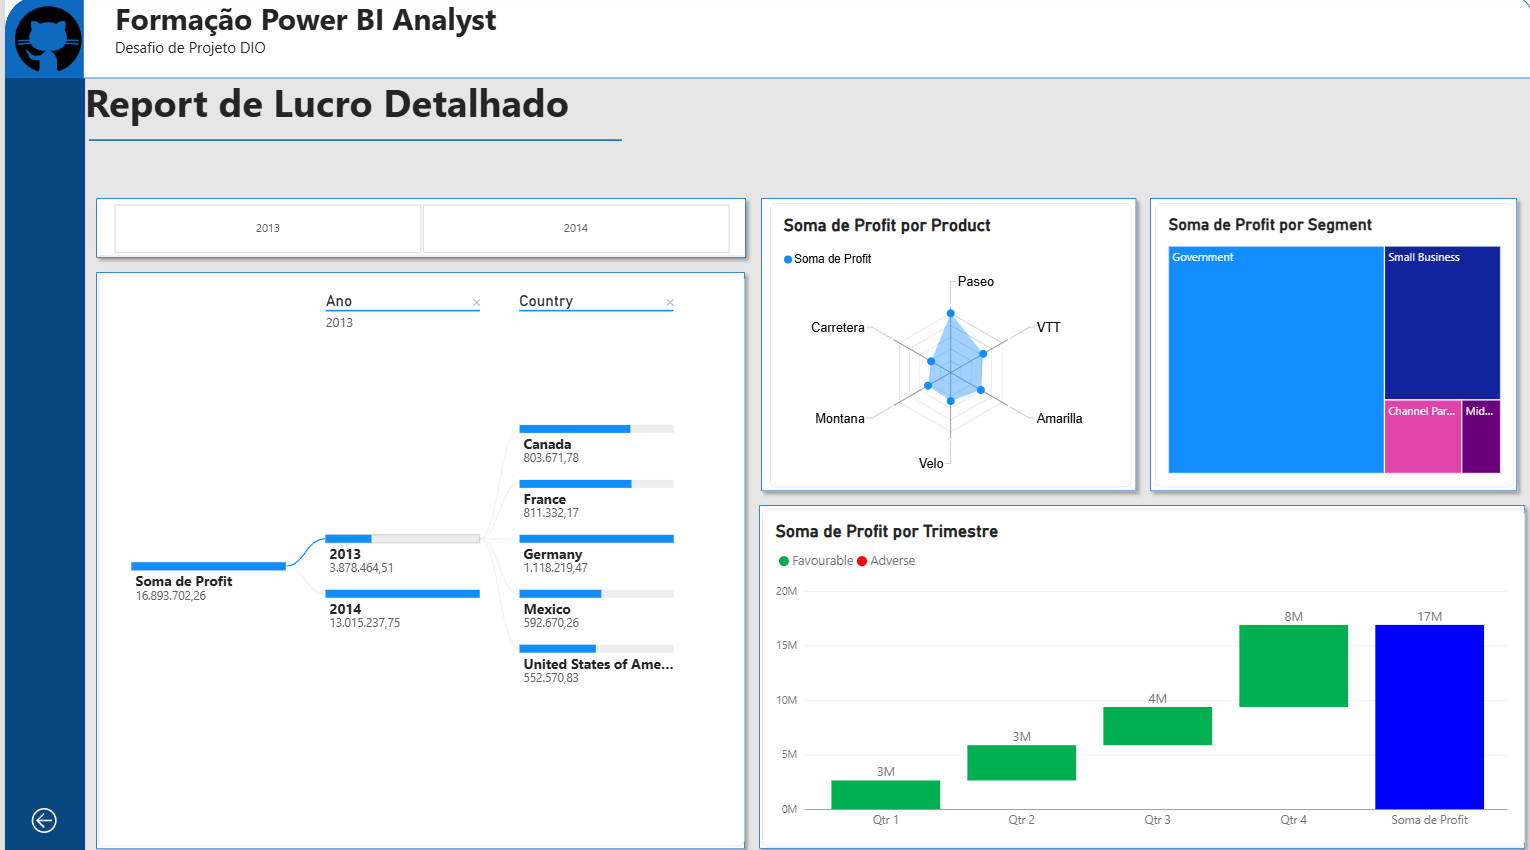

This screenshot's page, from the dashboard's own definition file:
{"tool":"powerbi","page":{"name":"Página 2","canvas":[1920,1080],"ordinal":1},"visuals":[{"type":"shape","title":"fundo","box":[0,0,1920,1080.3],"z":0},{"type":"shape","title":"barra lateral","box":[0,0,100.9,1077.7],"z":1000},{"type":"shape","title":"logo","box":[0,0,100.9,103.5],"z":2000},{"type":"image","box":[8.8,5.9,90.7,97.5],"z":3000},{"type":"shape","title":"barra superior","box":[98.3,0,1820.4,103.5],"z":4000},{"type":"textbox","box":[100.2,100.2,633.6,76.6],"z":5000},{"type":"textbox","box":[138.5,2.9,481.8,97.3],"z":6000},{"type":"shape","box":[106.1,98.7,669,163.6],"z":7000},{"type":"shape","box":[106.1,337.4,832.5,742.7],"z":8000},{"type":"shape","box":[938.6,630.7,979.9,449.4],"z":9000},{"type":"shape","box":[940.1,244.6,489.2,386.1],"z":10000},{"type":"shape","box":[1429.3,244.6,478.9,386.1],"z":11000},{"type":"shape","box":[106.1,244.6,834,92.8],"z":12000},{"type":"SimpleWaterfall","fields":{"measure":["Sum(financials.Profit)"],"category":["financials.Date.Variation.Hierarquia de datas.Trimestre"]},"box":[950.4,643.9,957.8,424.4],"z":13000},{"type":"RadarChart1446119667547","fields":{"Y":["Sum(financials.Profit)"],"Category":["financials.Product"]},"box":[960.7,259.3,453.8,356.6],"z":14000},{"type":"treemap","fields":{"Group":["financials.Segment"],"Values":["Sum(financials.Profit)"]},"box":[1444.1,259.3,450.9,356.6],"z":15000},{"type":"slicer","fields":{"Values":["financials.Date.Variation.Hierarquia de datas.Ano"]},"box":[116.4,259.3,811.9,64.8],"z":16000},{"type":"actionButton","box":[19.2,1003.5,60.4,64.8],"z":16001},{"type":"decompositionTreeVisual","fields":{"Analyze":["Sum(financials.Profit)"],"ExplainBy":["financials.Date.Variation.Hierarquia de datas.Ano","financials.Country"]},"box":[116.4,349.2,811.9,719.1],"z":16002}]}

Visuals, with their boxes on the page's 1920x1080 design canvas (x1, y1, x2, y2). These are canvas units, not pixel positions in the 1530x850 screenshot, which may show the page scaled, cropped or inside an application window:
"fundo" shape: <bbox>0, 0, 1920, 1080</bbox>
"barra lateral" shape: <bbox>0, 0, 101, 1078</bbox>
"logo" shape: <bbox>0, 0, 101, 104</bbox>
image: <bbox>9, 6, 100, 103</bbox>
"barra superior" shape: <bbox>98, 0, 1919, 104</bbox>
textbox: <bbox>100, 100, 734, 177</bbox>
textbox: <bbox>138, 3, 620, 100</bbox>
shape: <bbox>106, 99, 775, 262</bbox>
shape: <bbox>106, 337, 939, 1080</bbox>
shape: <bbox>939, 631, 1918, 1080</bbox>
shape: <bbox>940, 245, 1429, 631</bbox>
shape: <bbox>1429, 245, 1908, 631</bbox>
shape: <bbox>106, 245, 940, 337</bbox>
SimpleWaterfall - Sum(financials.Profit) x financials.Date.Variation.Hierarquia de datas.Trimestre: <bbox>950, 644, 1908, 1068</bbox>
RadarChart1446119667547 - Sum(financials.Profit) x financials.Product: <bbox>961, 259, 1414, 616</bbox>
treemap - financials.Segment x Sum(financials.Profit): <bbox>1444, 259, 1895, 616</bbox>
slicer - financials.Date.Variation.Hierarquia de datas.Ano: <bbox>116, 259, 928, 324</bbox>
actionButton: <bbox>19, 1004, 80, 1068</bbox>
decompositionTreeVisual - Sum(financials.Profit) x financials.Date.Variation.Hierarquia de datas.Ano: <bbox>116, 349, 928, 1068</bbox>
